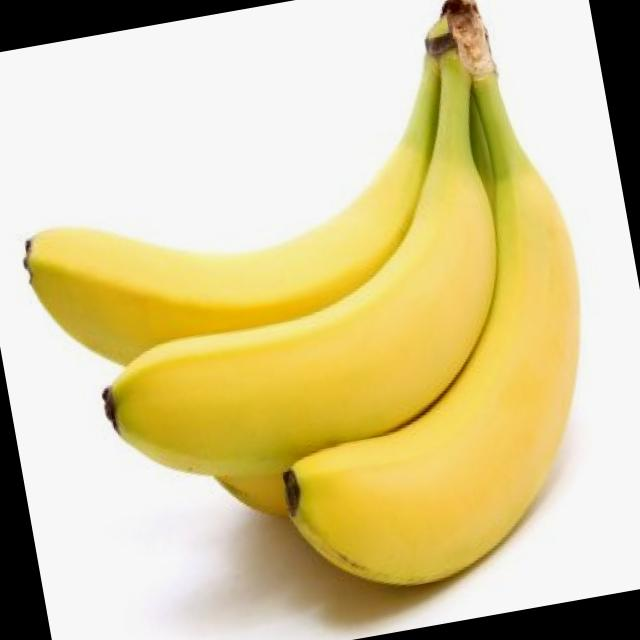banana: (228, 105, 640, 640), (61, 138, 554, 546), (0, 78, 510, 442)
